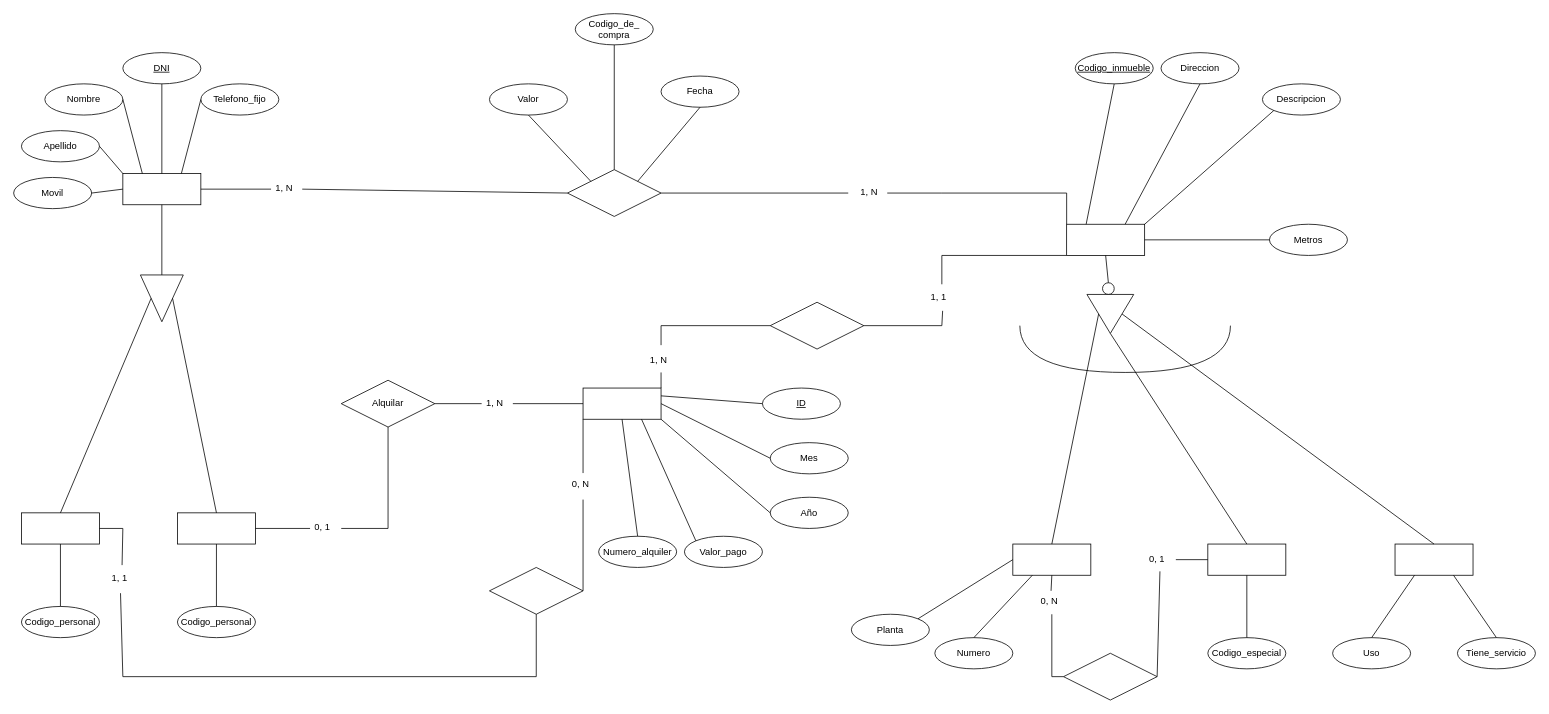
Some shapes in this 1549 by 714 pixel diagram are drawn without their labels. Here are the shapes that lost their labels. From the top down, the centre of each, then its label:
At [161,189]: "Persona".
At [614,192]: "Comprar".
At [1105,239]: "Inmueble".
At [816,325]: "Arrendar".
At [621,403]: "Alquiler".
At [60,528]: "Trabajador".
At [216,528]: "Cliente".
At [1051,559]: "Garaje".
At [1246,559]: "Pisos".
At [1433,559]: "Locales".
At [536,590]: "Gestionar".
At [1110,676]: "Asociar".
